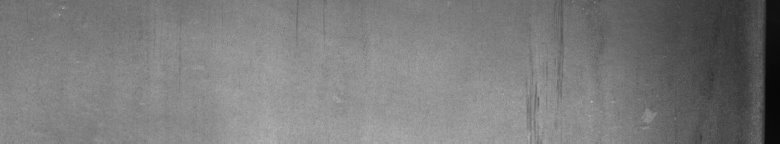ka: (524, 28, 563, 128)
